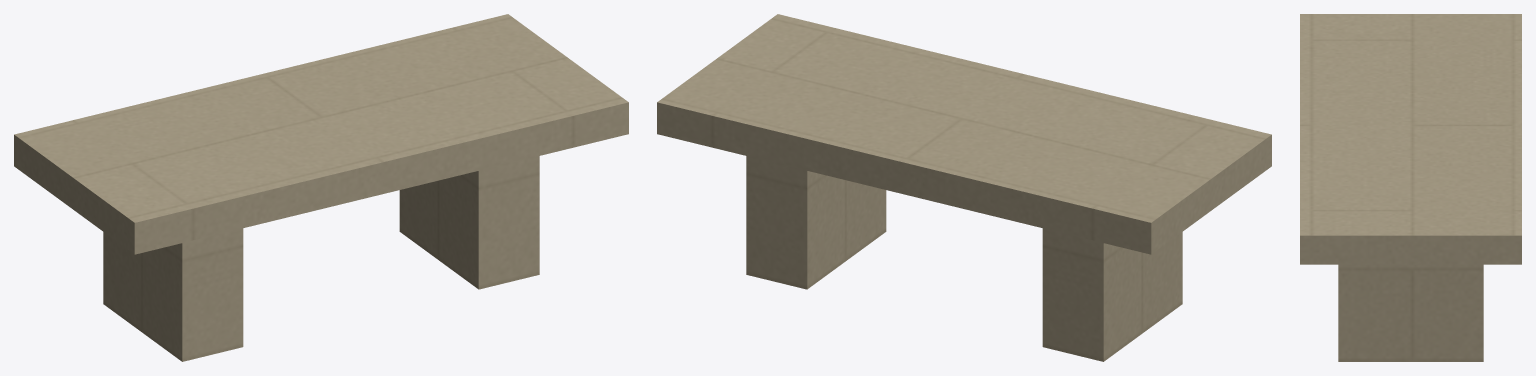
The model's file is table.glb.
3 views of the same model, side by side, from view 1: azimuth 30°, elevation 25°; view 2: azimuth 150°, elevation 25°; view 3: azimuth 270°, elevation 25° (orthographic). The views are drawn at different scales.
Parts seen in each view (by area): view 1: Stone table; view 2: Stone table; view 3: Stone table.
Part boxes in pixels (x1,y1,x2,y2): Stone table: (14, 14, 628, 361); Stone table: (657, 14, 1271, 361); Stone table: (1300, 14, 1521, 361).
Bounding box in the file's own units: 2.6 × 0.86 × 1.1.
Materials: 1 (1 with a texture image).
